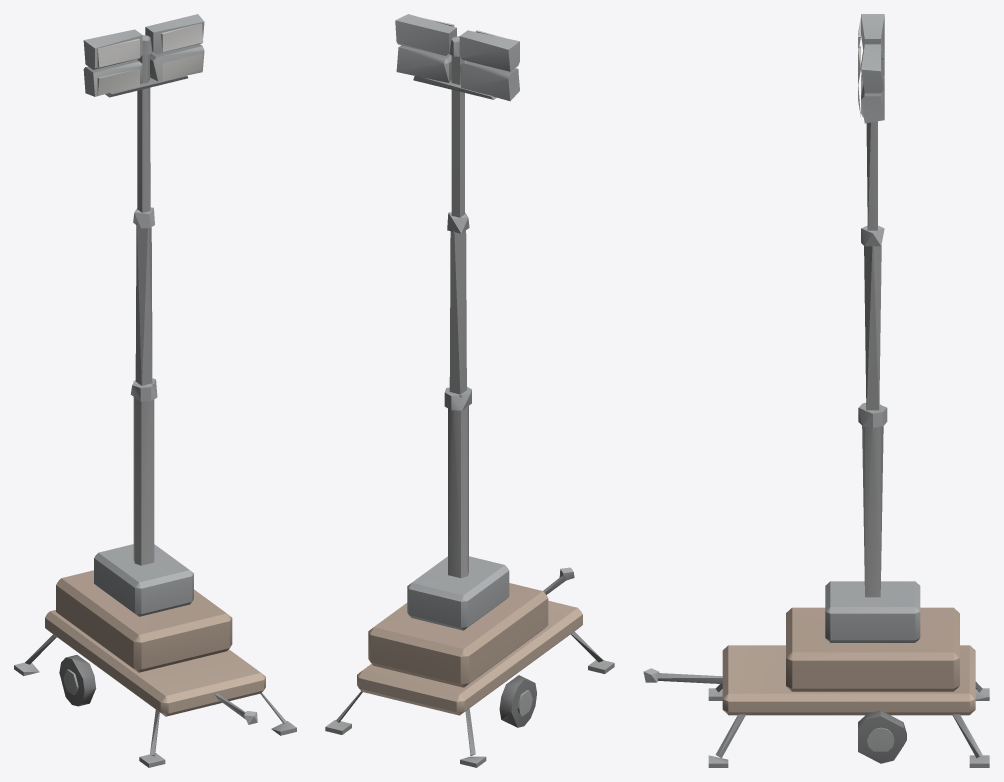
The model's file is lighttower.lod1.glb.
3 renders of one model, left to right at view 1: azimuth 30°, elevation 25°; view 2: azimuth 150°, elevation 25°; view 3: azimuth 270°, elevation 25°, orthographic. The views are drawn at different scales.
Bounding box in the file's own units: 2.25 × 9.6 × 4.38.
